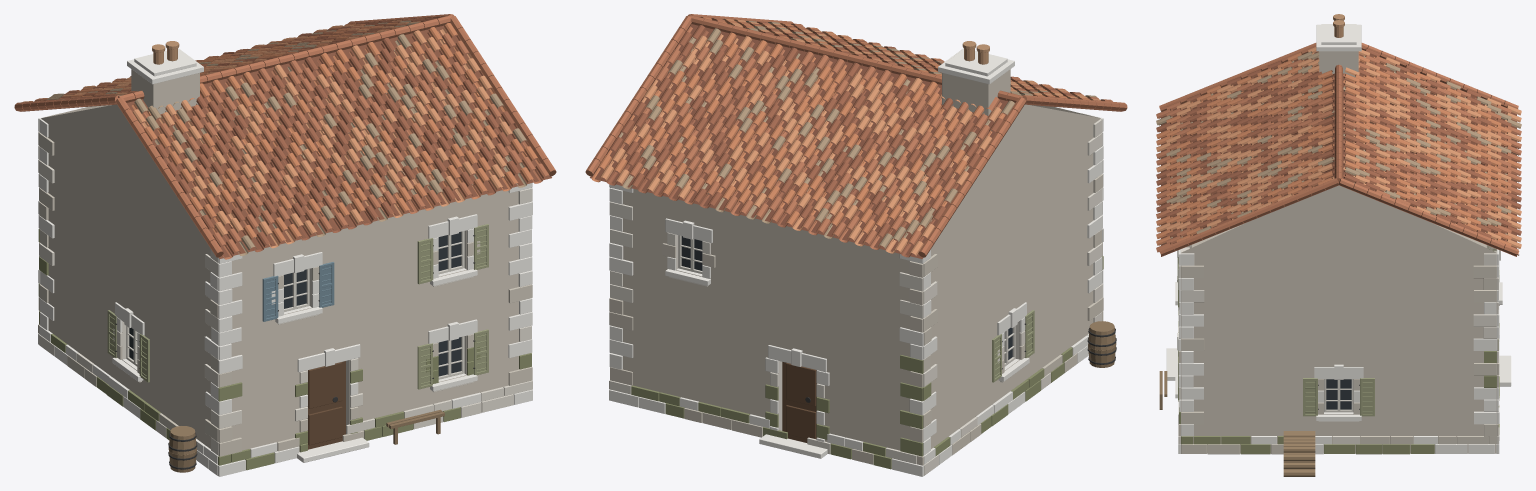
File: Farmhouse.fbx
The picture shows the model from 3 angles, left to right: view 1: azimuth 30°, elevation 25°; view 2: azimuth 150°, elevation 25°; view 3: azimuth 270°, elevation 25°; orthographic projection. The views are drawn at different scales.
Parts seen in each view (by area): view 1: Farmhouse; view 2: Farmhouse; view 3: Farmhouse.
Boxes of the visible parts, box(x1,y1,x2,y2) form: Farmhouse: box(14, 14, 556, 476); Farmhouse: box(585, 14, 1127, 476); Farmhouse: box(1156, 14, 1521, 476).
Size of the model in its own units: 10.31 by 8.8 by 9.25.
